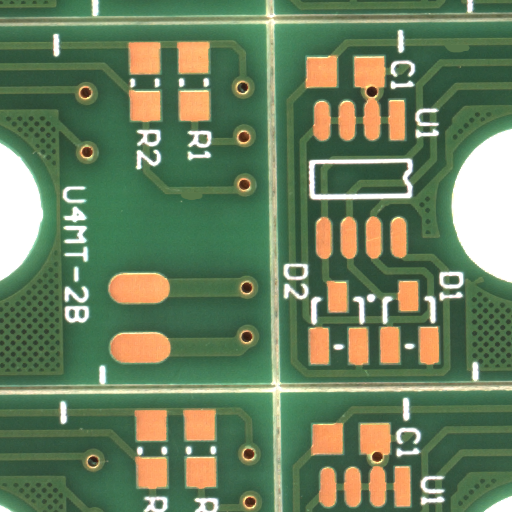Spur: (456, 48, 487, 60), (191, 195, 218, 206)
